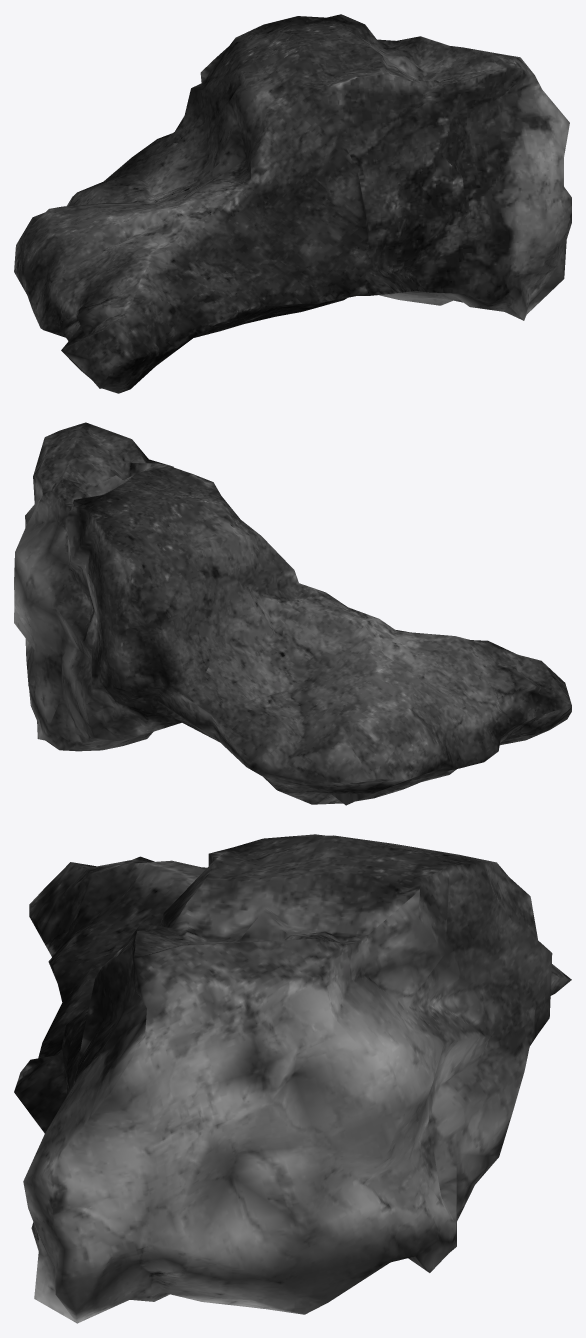
File: stone_01.glb
3 renders of one model, top to bottom at view 1: azimuth 30°, elevation 25°; view 2: azimuth 150°, elevation 25°; view 3: azimuth 270°, elevation 25°, orthographic. The views are drawn at different scales.
Visible parts, largest first — view 1: stone_01_LOD0; view 2: stone_01_LOD0; view 3: stone_01_LOD0.
Part boxes in pixels (x1,y1,x2,y2): stone_01_LOD0: (14, 14, 571, 393); stone_01_LOD0: (14, 422, 571, 805); stone_01_LOD0: (14, 834, 571, 1323).
Size of the model in its own units: 0.1462 by 0.0704 by 0.0886.
Materials: 1 (1 with a texture image).
